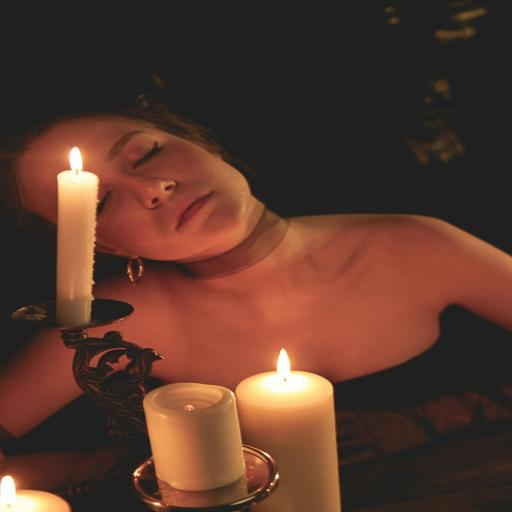candlelight: (232, 344, 340, 512), (141, 382, 252, 510), (53, 149, 103, 322), (0, 475, 17, 511)
